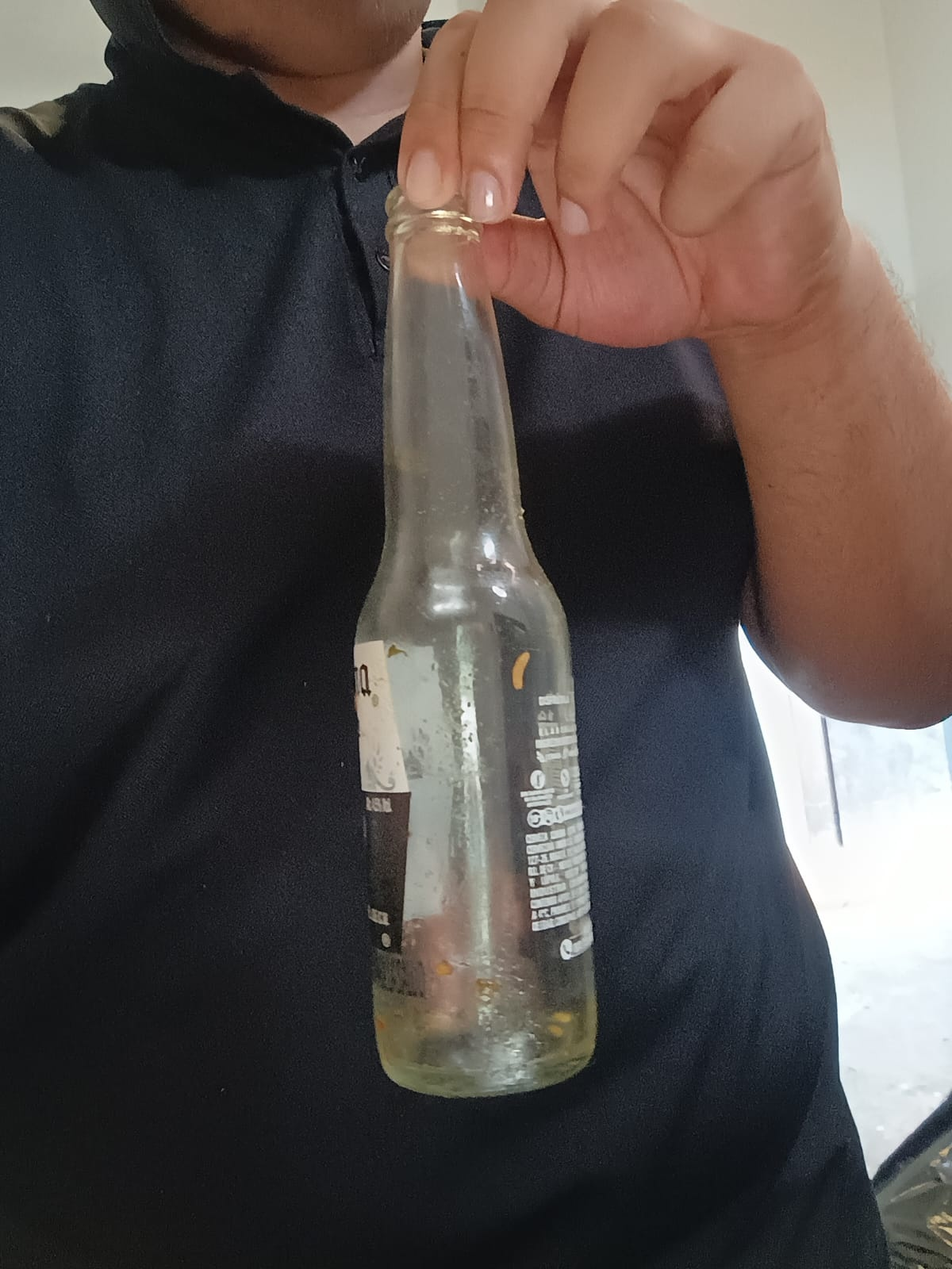Vidrio: (356, 182, 598, 1096)
